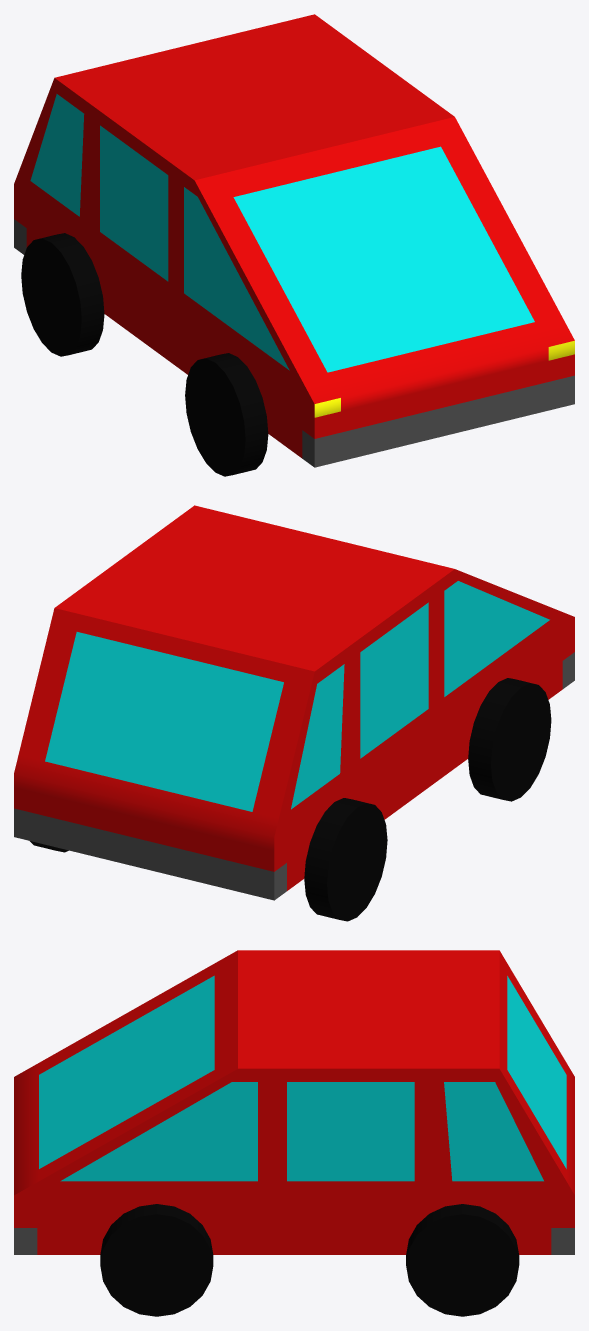
The model's file is Car.fbx.
3 views of the same model, one above another, from view 1: azimuth 30°, elevation 25°; view 2: azimuth 150°, elevation 25°; view 3: azimuth 270°, elevation 25° (orthographic). The views are drawn at different scales.
Visible parts, largest first — view 1: Body1, Wheel3, Wheel2; view 2: Body1, Wheel2, Wheel3; view 3: Body1, Wheel4, Wheel1.
Part boxes in pixels (x1,y1,x2,y2): Body1: (14, 14, 574, 467); Wheel3: (185, 353, 268, 476); Wheel2: (21, 233, 104, 356); Body1: (14, 505, 574, 900); Wheel2: (304, 798, 387, 921); Wheel3: (468, 678, 551, 801); Body1: (14, 950, 574, 1254); Wheel4: (406, 1204, 519, 1316); Wheel1: (100, 1204, 213, 1316).
Size of the model in its own units: 2.35 by 1.87 by 4.
